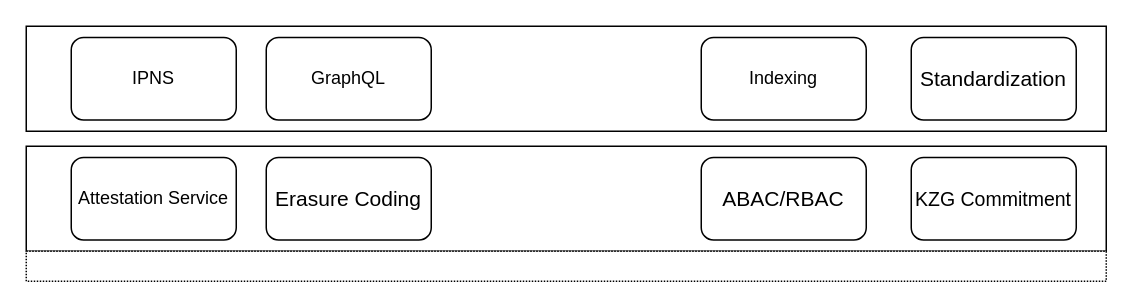
Some shapes in this 1133 by 308 pixel diagram are drawn without their labels. Here are the shapes that lost their labels. From the top down, the box of each, then its label:
(25, 25, 1106, 131): Data Service Network
(25, 145, 1106, 251): DA Layer
(25, 250, 1106, 281): Layer 1
